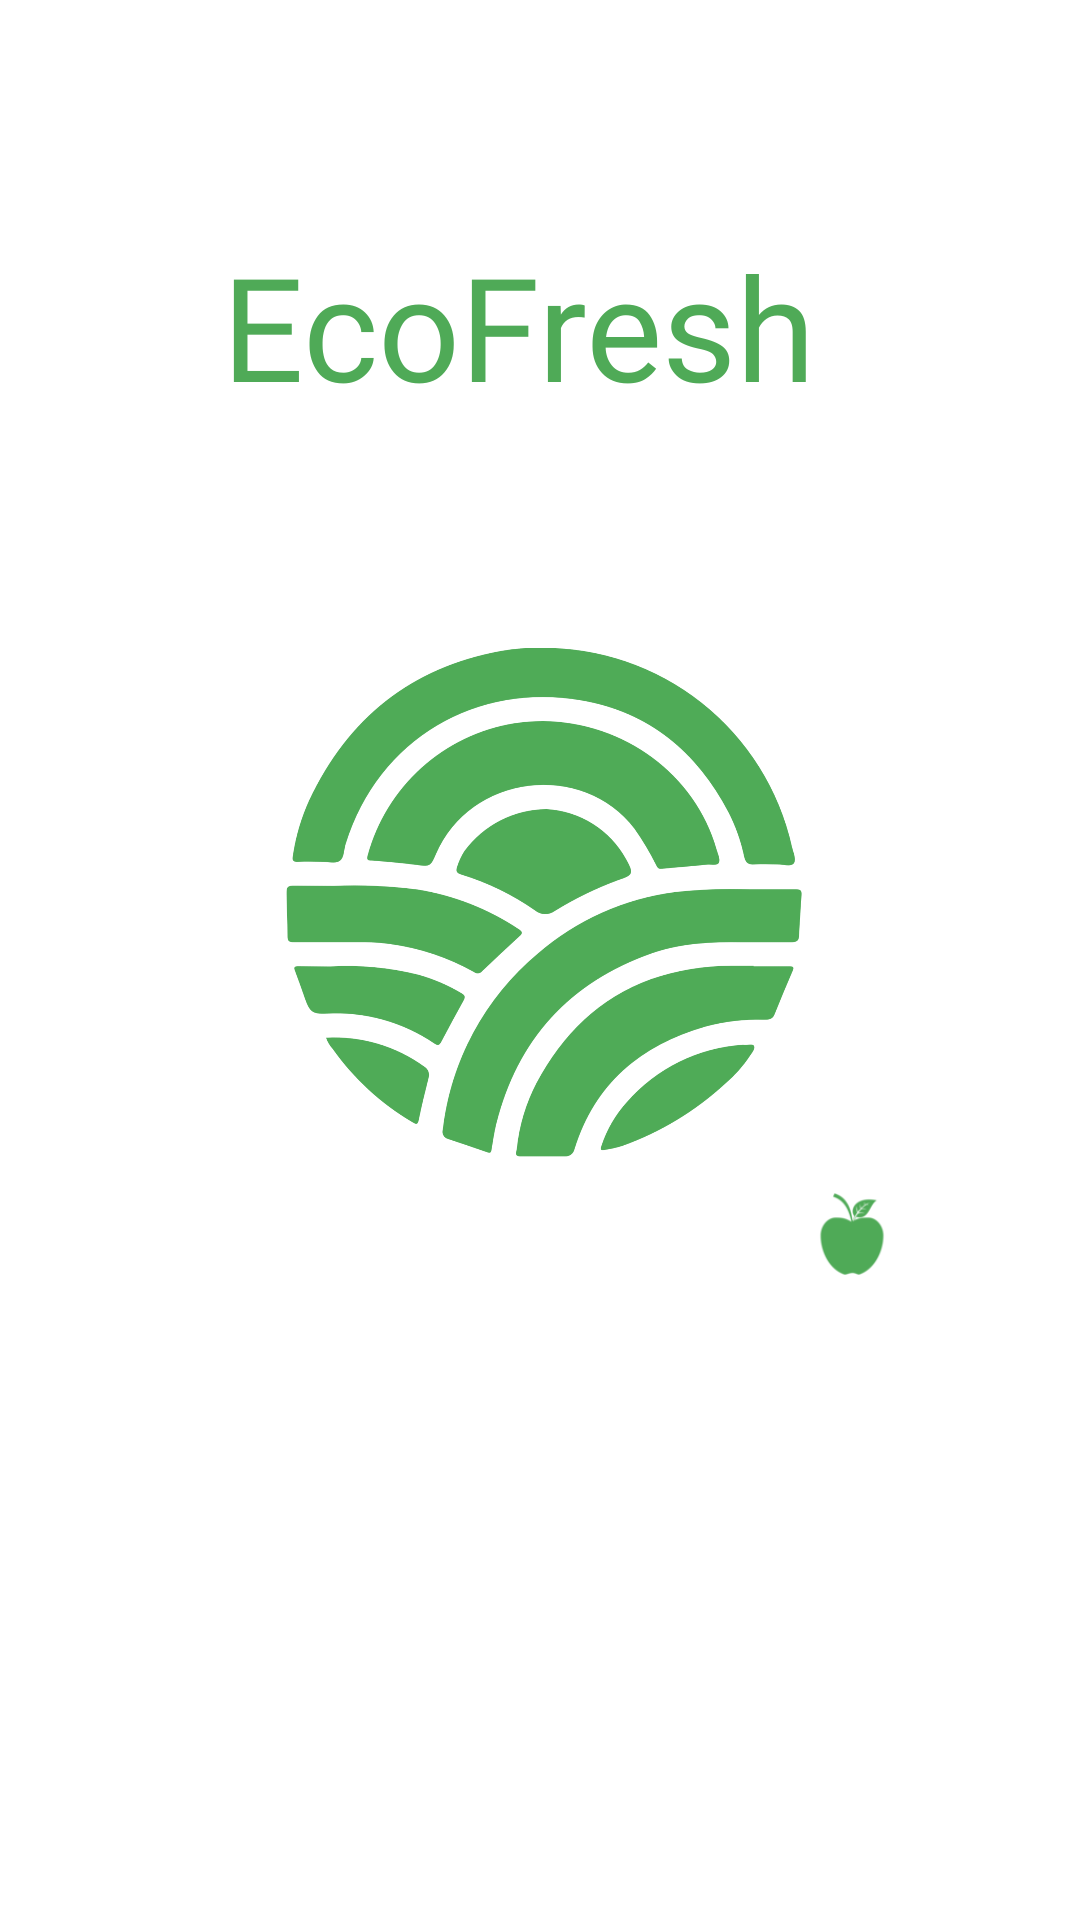

Named icons in this screenshot (1080x1920) and their centers, (x,y):
manzanarellena: (852,1234)
